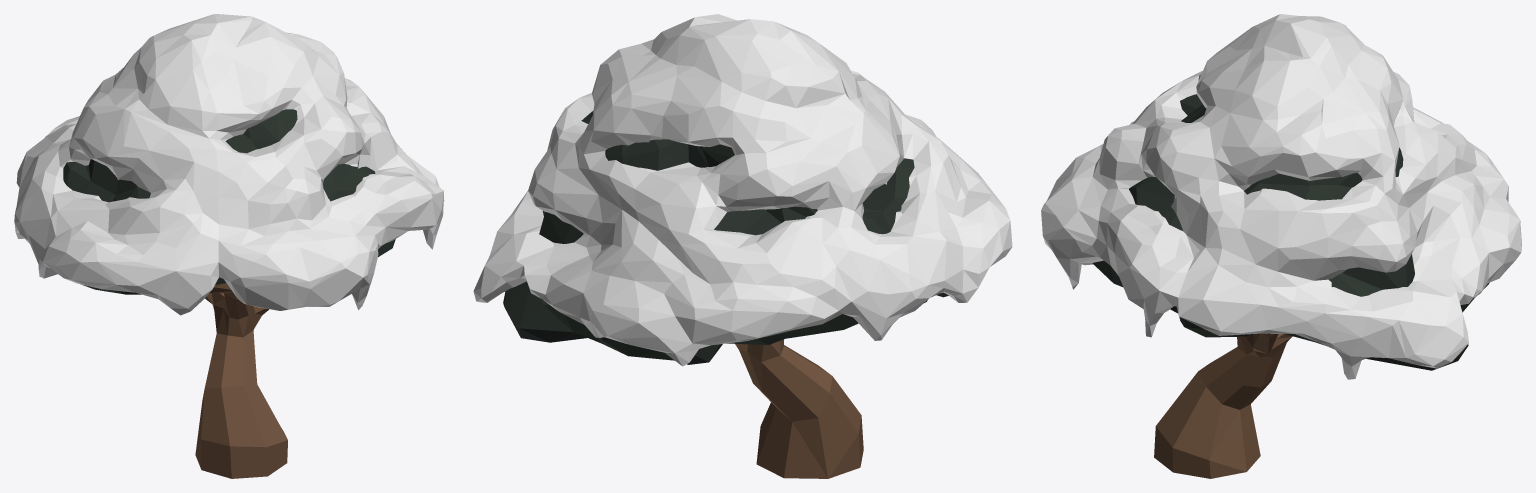
The model's file is Wide_Green_Tree_Snow.fbx.
3 renders of one model, left to right at view 1: azimuth 30°, elevation 25°; view 2: azimuth 150°, elevation 25°; view 3: azimuth 270°, elevation 25°, orthographic. The views are drawn at different scales.
Visible parts, largest first — view 1: Wide Green Tree Snow; view 2: Wide Green Tree Snow; view 3: Wide Green Tree Snow.
Part boxes in pixels (<box>): Wide Green Tree Snow: <box>14,14,444,478</box>; Wide Green Tree Snow: <box>473,14,1012,478</box>; Wide Green Tree Snow: <box>1041,14,1521,478</box>.
Bounding box in the file's own units: 418 × 430 × 425.
